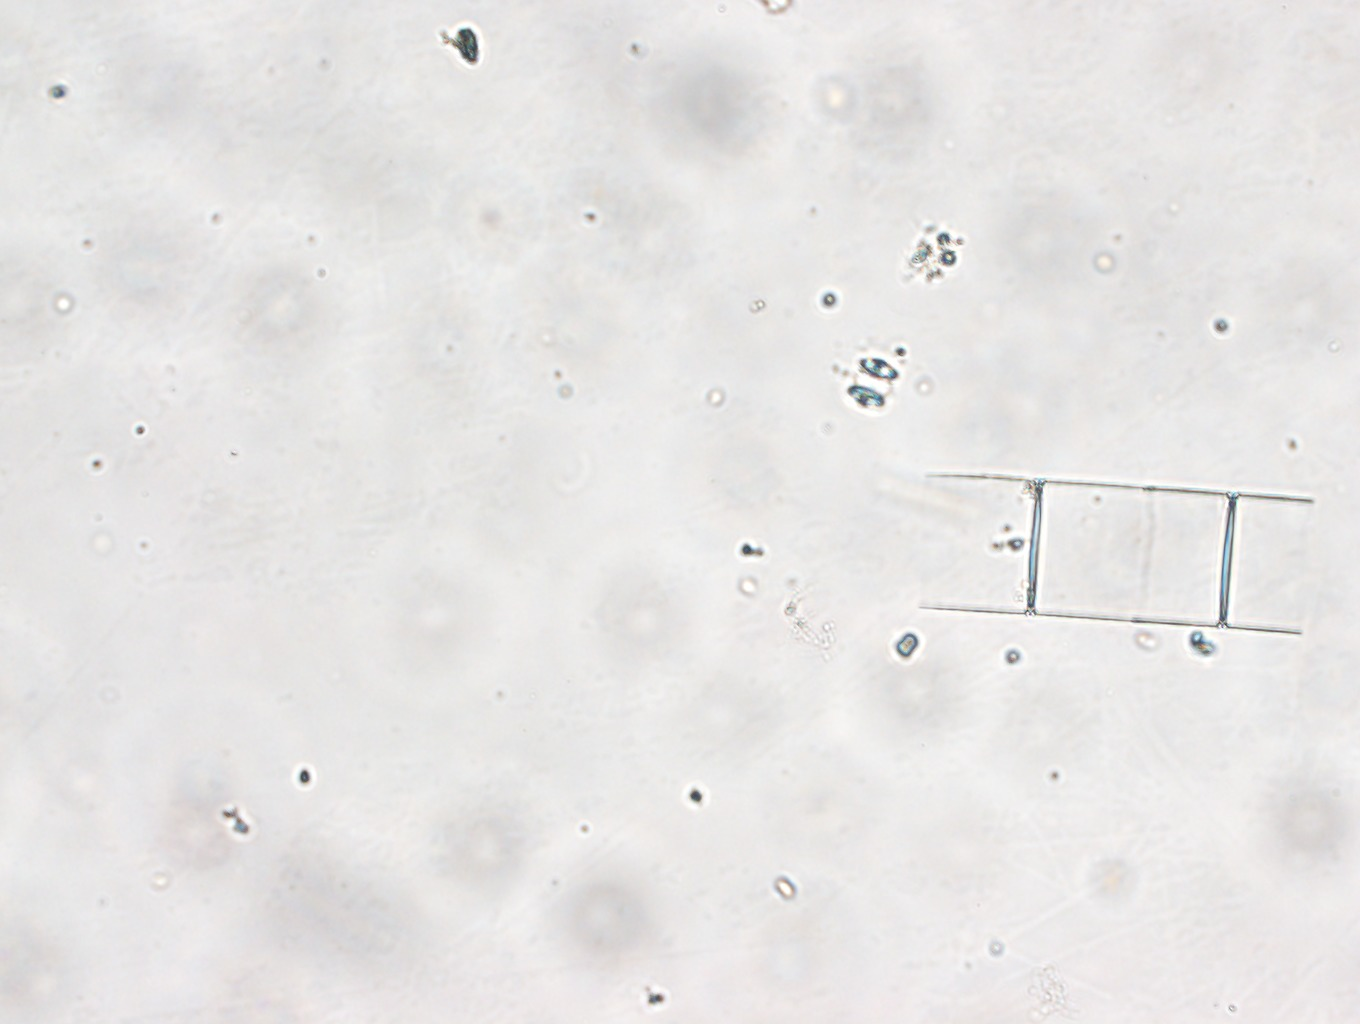guinardia flaccida: (918, 472, 1316, 645)
